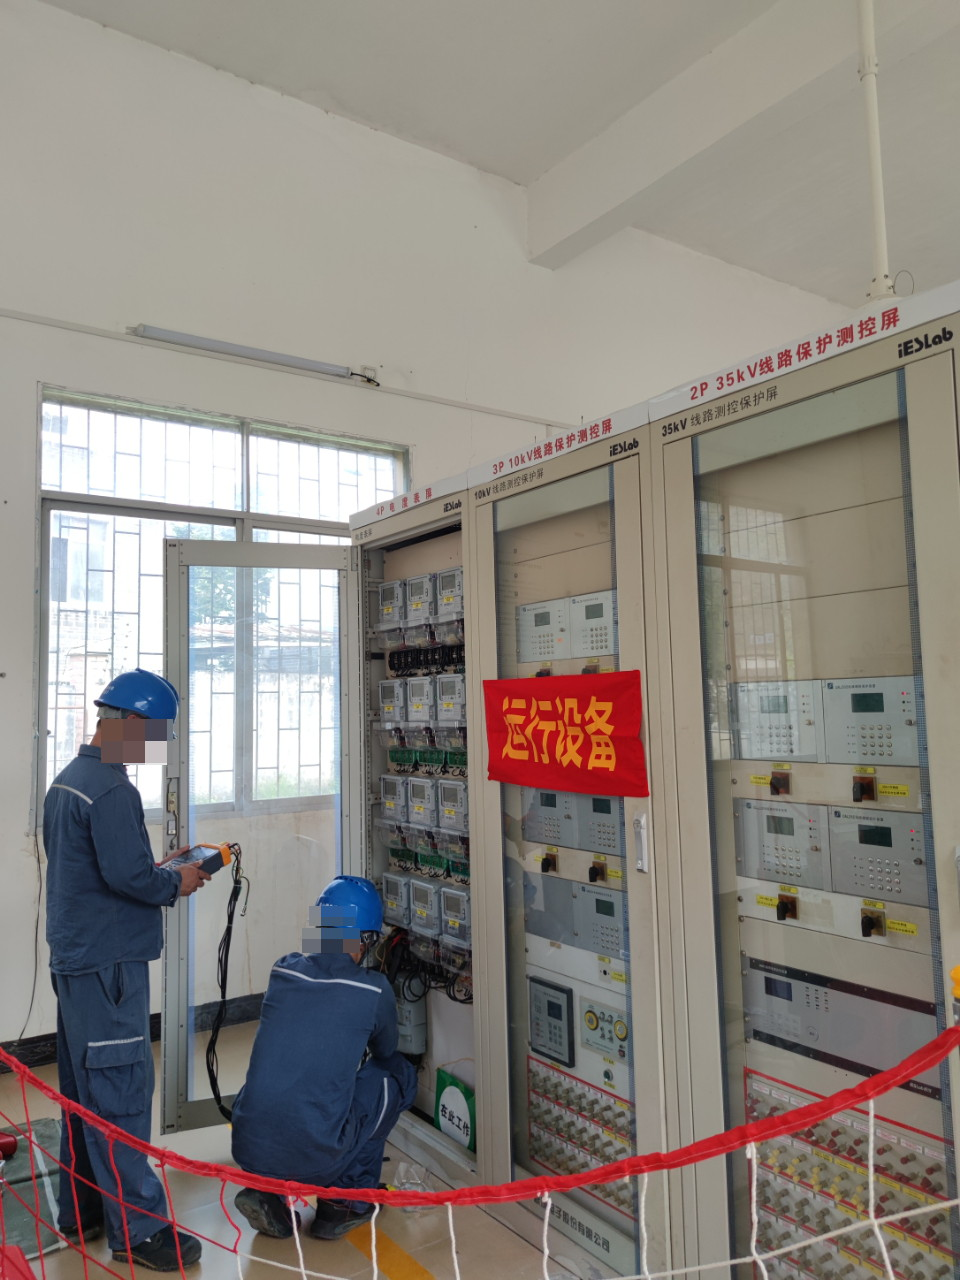downsuit: (48, 975, 174, 1242)
halt: (89, 669, 181, 764), (310, 876, 388, 956)
hand: (169, 858, 207, 897)
inear: (119, 705, 154, 765)
person: (33, 663, 211, 1261), (227, 874, 422, 1239)
upsuit: (227, 947, 416, 1176), (40, 748, 180, 965)
worksign: (425, 1063, 483, 1152)
